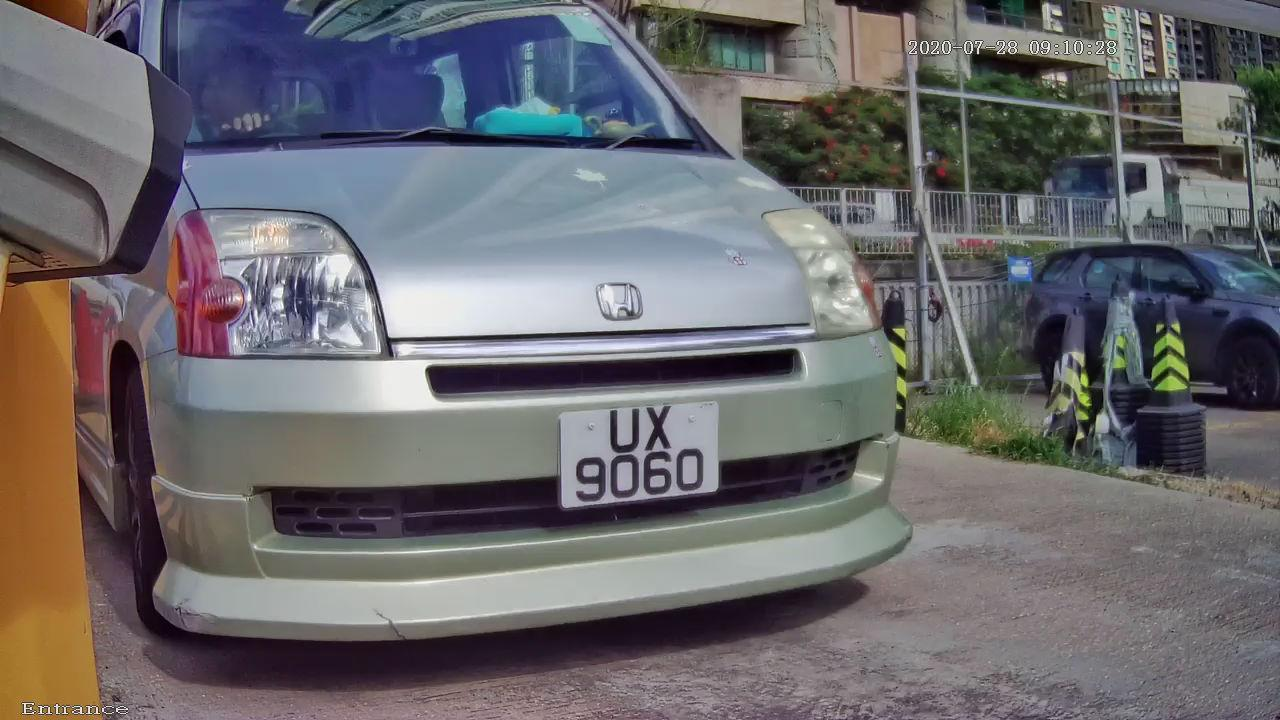privatecar: (40, 26, 989, 659)
